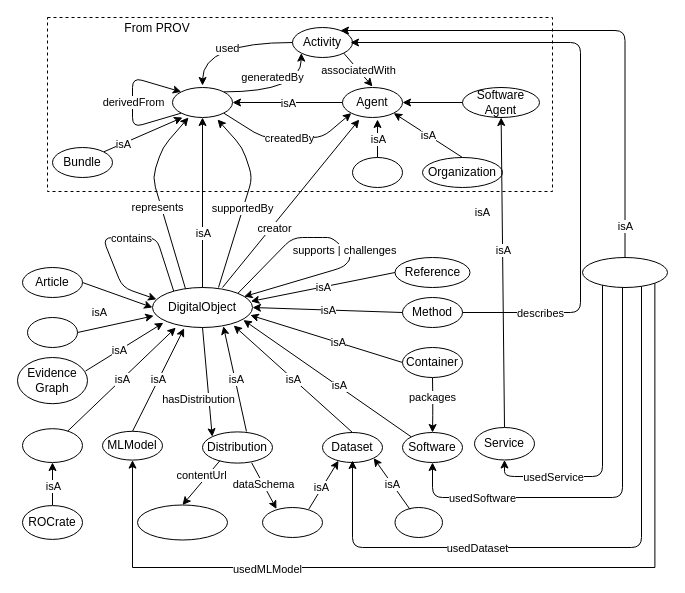
This 685x593 diagram has some shape labels left out. Each missing label, with the centre of its shape:
"Claim" belongs at point 52,332.
"Computation" belongs at point 625,272.
"DigitalContent" belongs at point 182,522.
"Entity" belongs at point 202,102.
"Image" belongs at point 418,522.
"Package" belongs at point 52,445.
"Person" belongs at point 377,172.
"Schema" belongs at point 292,522.
